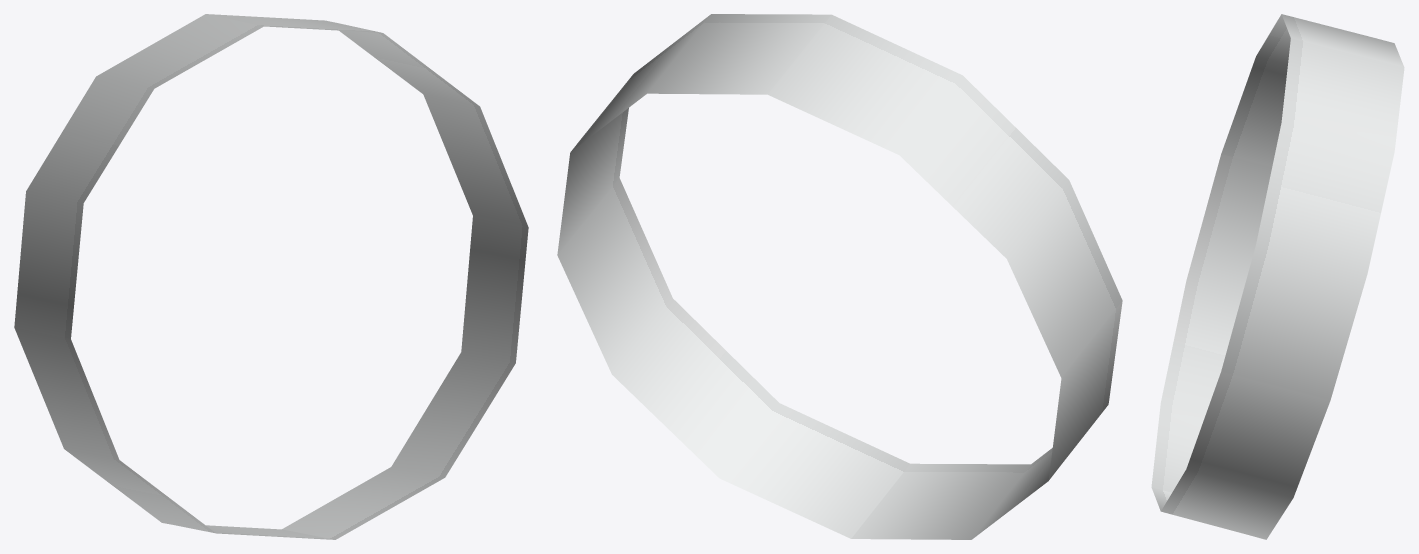
File: luminairearm_caltrans12ftstraightdouble_c12.obj
3 views of the same model, side by side, from view 1: azimuth 30°, elevation 25°; view 2: azimuth 150°, elevation 25°; view 3: azimuth 270°, elevation 25° (orthographic). The views are drawn at different scales.
Visible parts, largest first — view 1: luminairearm_caltrans12ftstraightdouble_c12; view 2: luminairearm_caltrans12ftstraightdouble_c12; view 3: luminairearm_caltrans12ftstraightdouble_c12.
Part boxes in pixels (left/top/right/bottom): luminairearm_caltrans12ftstraightdouble_c12: left=14, top=14, right=528, bottom=539; luminairearm_caltrans12ftstraightdouble_c12: left=557, top=14, right=1122, bottom=539; luminairearm_caltrans12ftstraightdouble_c12: left=1151, top=14, right=1404, bottom=539.
Bounding box in the file's own units: 0.185 × 0.1889 × 0.0908.
